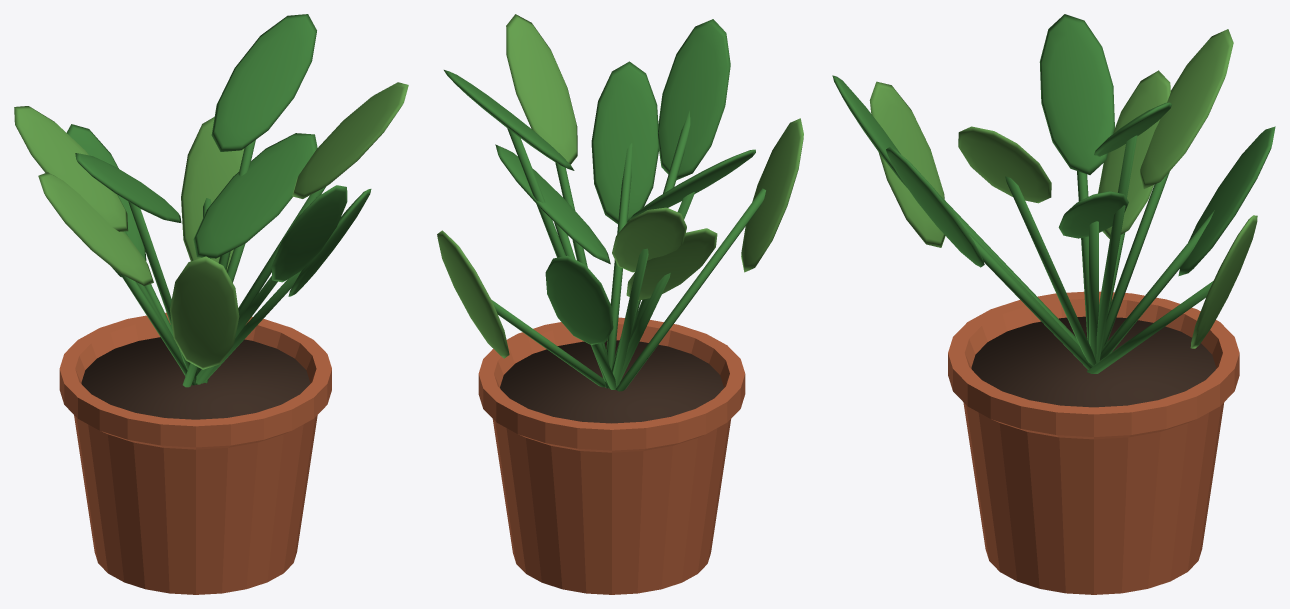
Rendered from houseplant.glb.
3 views of the same model, side by side, from view 1: azimuth 30°, elevation 25°; view 2: azimuth 150°, elevation 25°; view 3: azimuth 270°, elevation 25° (orthographic). The views are drawn at different scales.
Parts seen in each view (by area): view 1: houseplant; view 2: houseplant; view 3: houseplant.
Part boxes in pixels (x1,y1,x2,y2): houseplant: [14, 14, 408, 594]; houseplant: [437, 14, 803, 594]; houseplant: [832, 14, 1275, 594].
Size of the model in its own units: 4.29 by 6.82 by 5.32.
